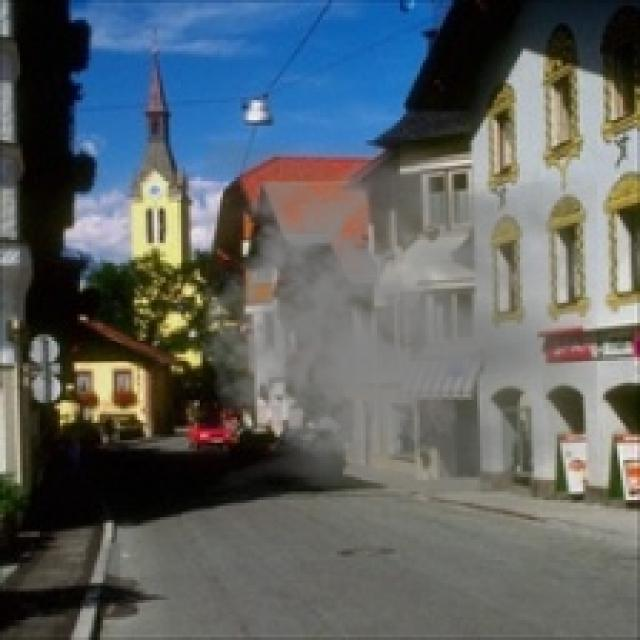smoke: (192, 140, 597, 514)
